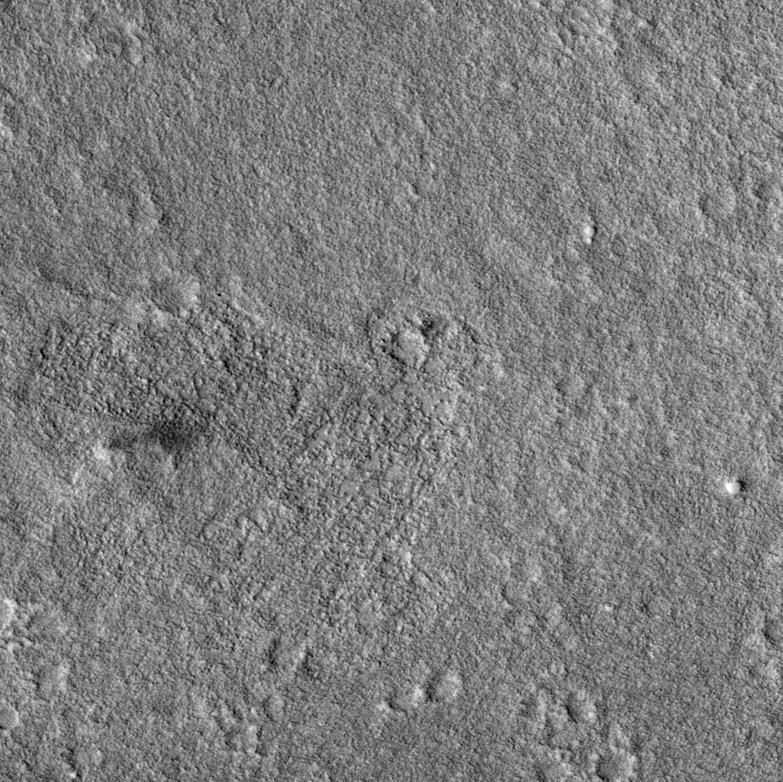dust_devil: (89, 413, 201, 473)
